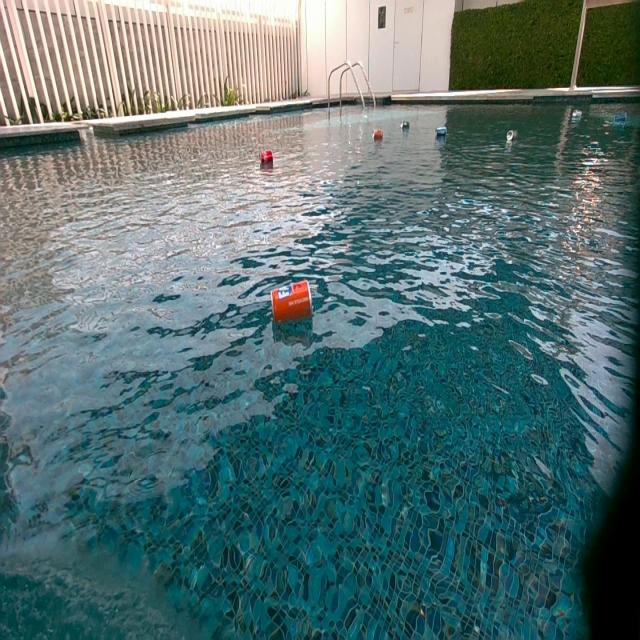Cans: (271, 278, 311, 326), (613, 112, 627, 126), (259, 150, 272, 165), (437, 127, 449, 141), (374, 129, 384, 142), (506, 130, 516, 142), (399, 119, 409, 130), (571, 109, 581, 120)
